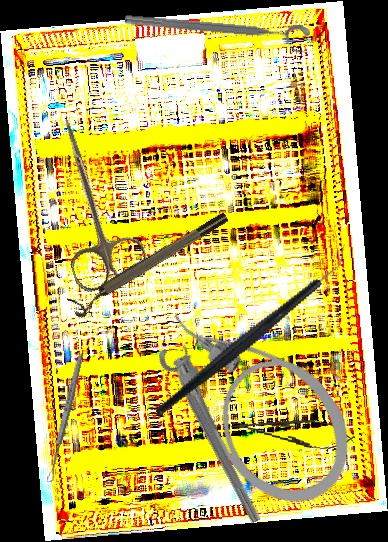Cannula: (141, 269, 376, 528)
Chopper: (124, 243, 380, 417)
Fixation Ring: (155, 338, 276, 527), (66, 208, 235, 321), (123, 9, 311, 56)
Iris Scissors: (27, 109, 152, 296)
Needle Holder: (228, 409, 357, 454)
Surgical Spoon: (45, 352, 85, 484)
